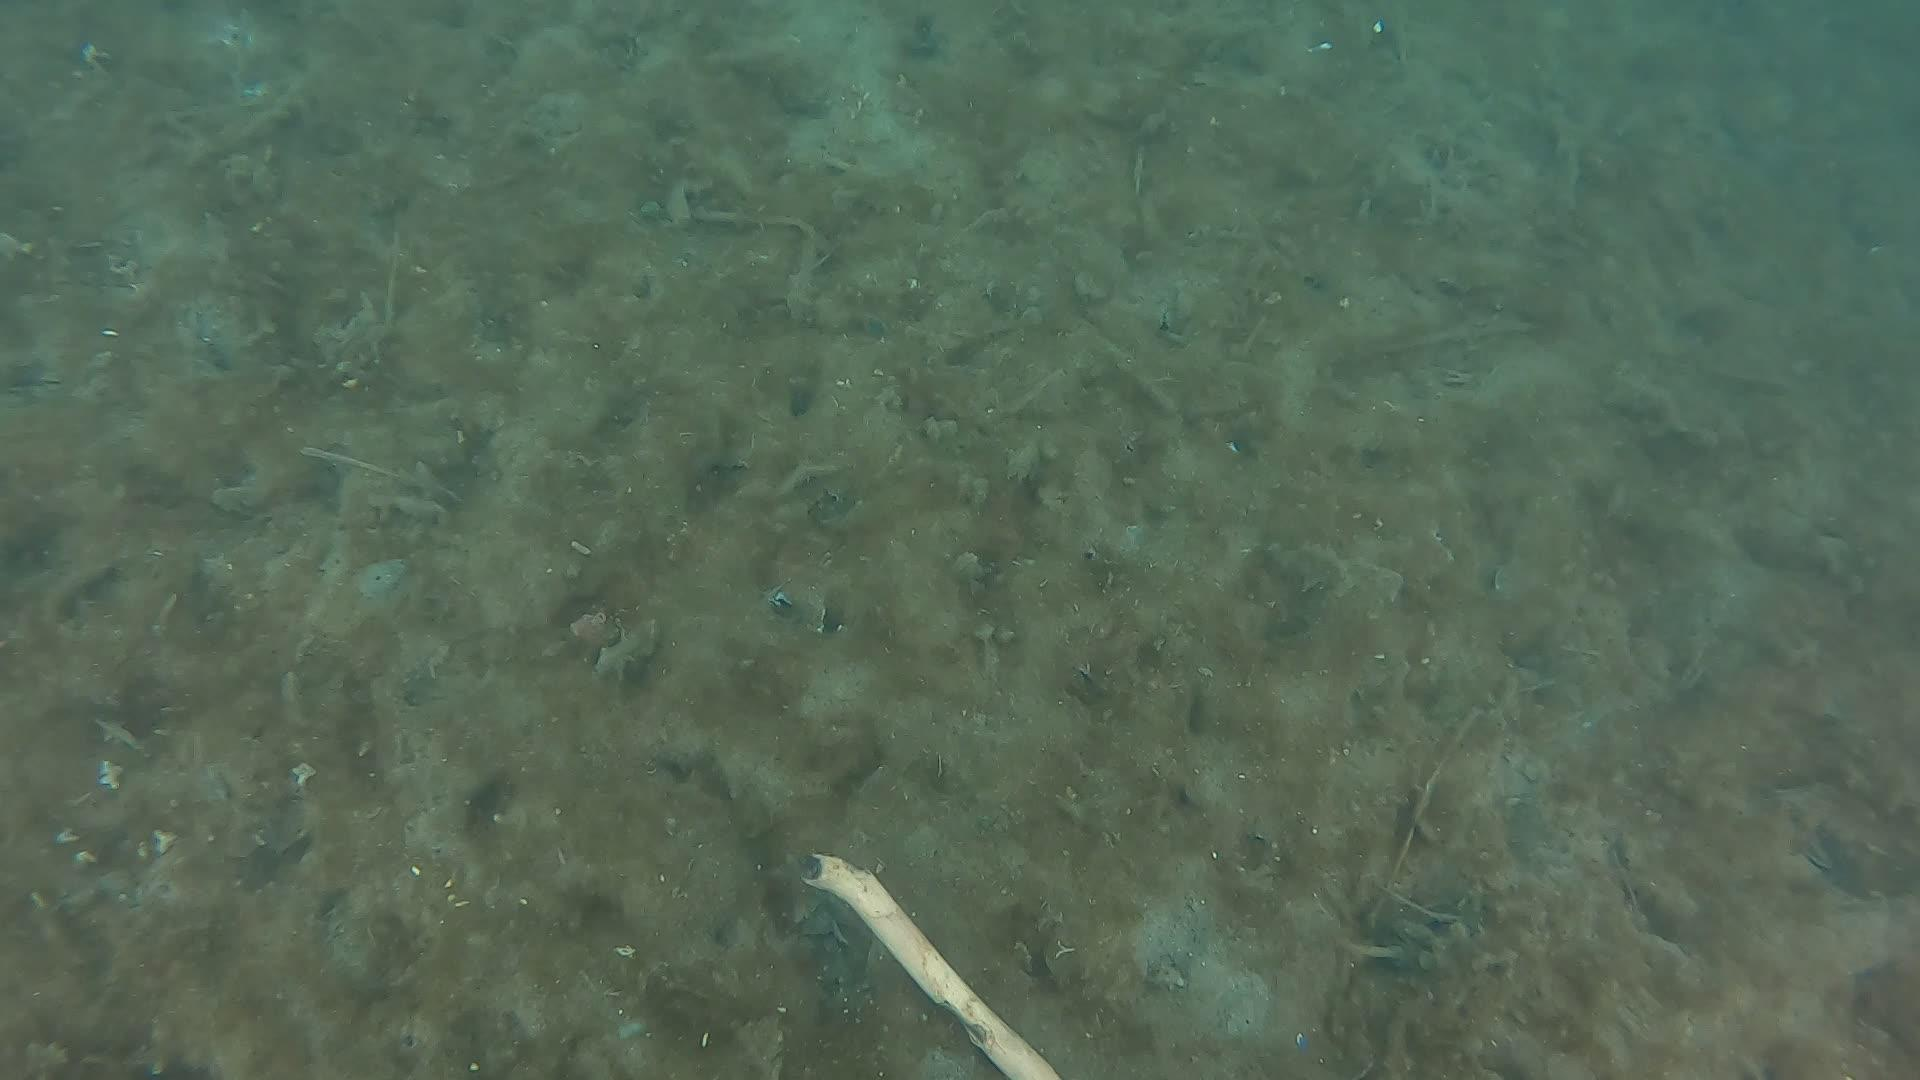wood: (796, 849, 1067, 1080)
